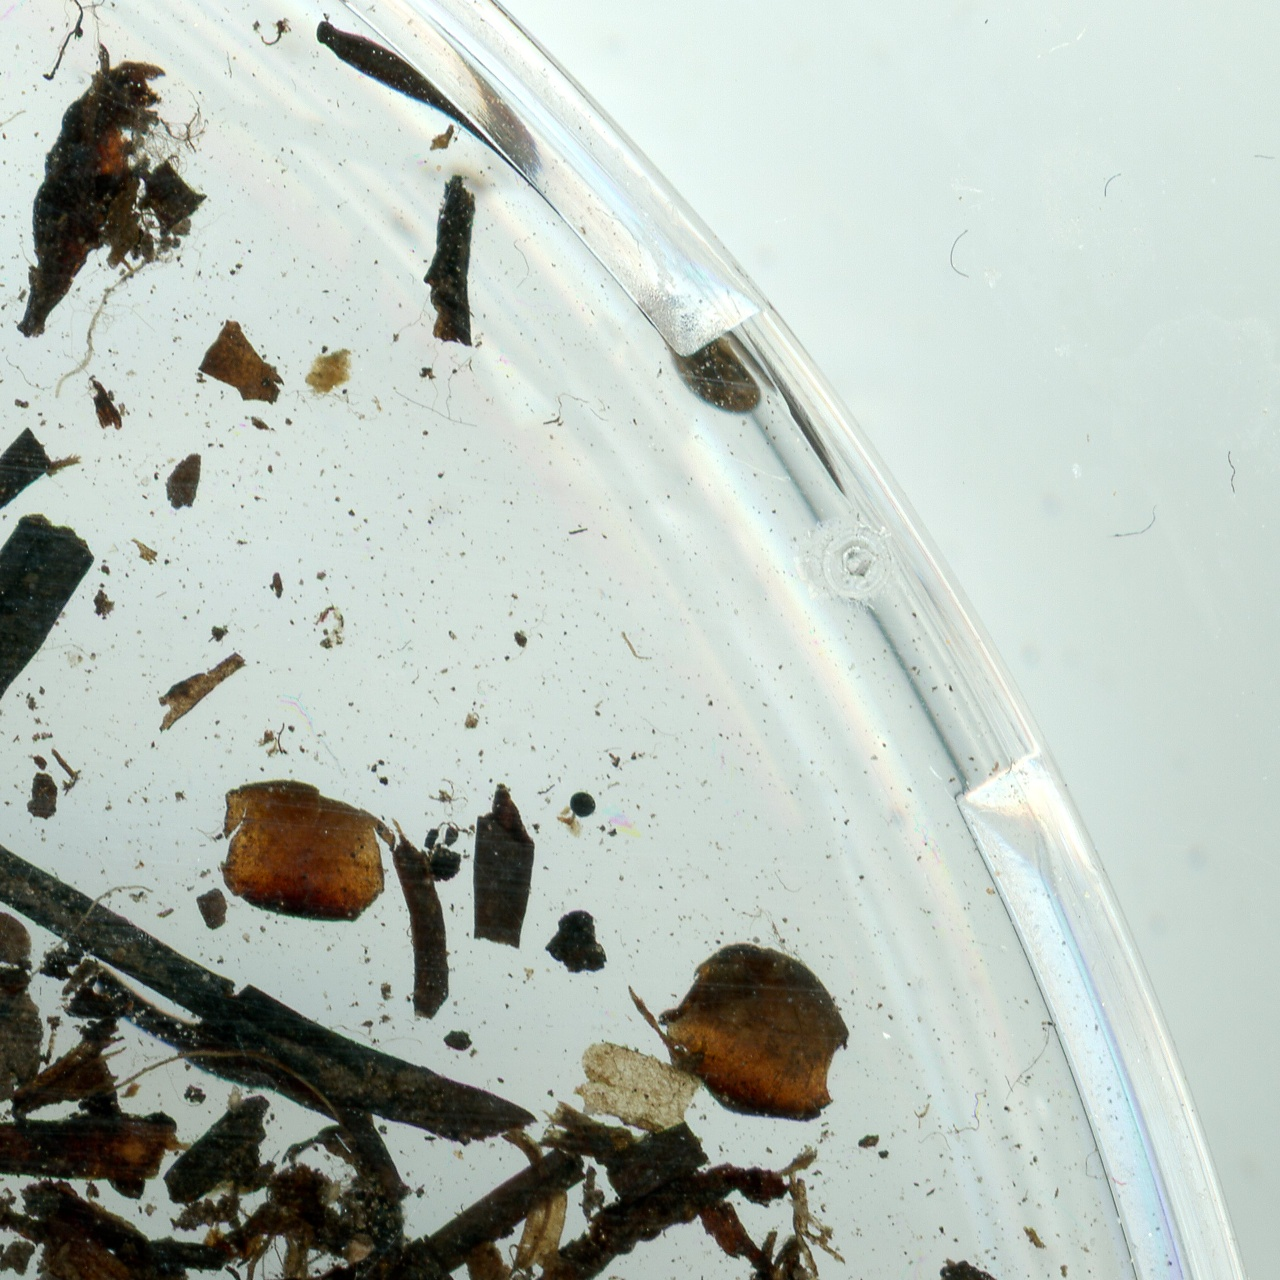arthropod: (13, 45, 164, 338)
